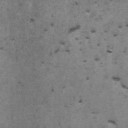oxide scale of temperature system: (50, 0, 128, 90), (107, 118, 118, 128), (78, 96, 83, 103), (50, 87, 55, 93), (30, 18, 35, 23)
